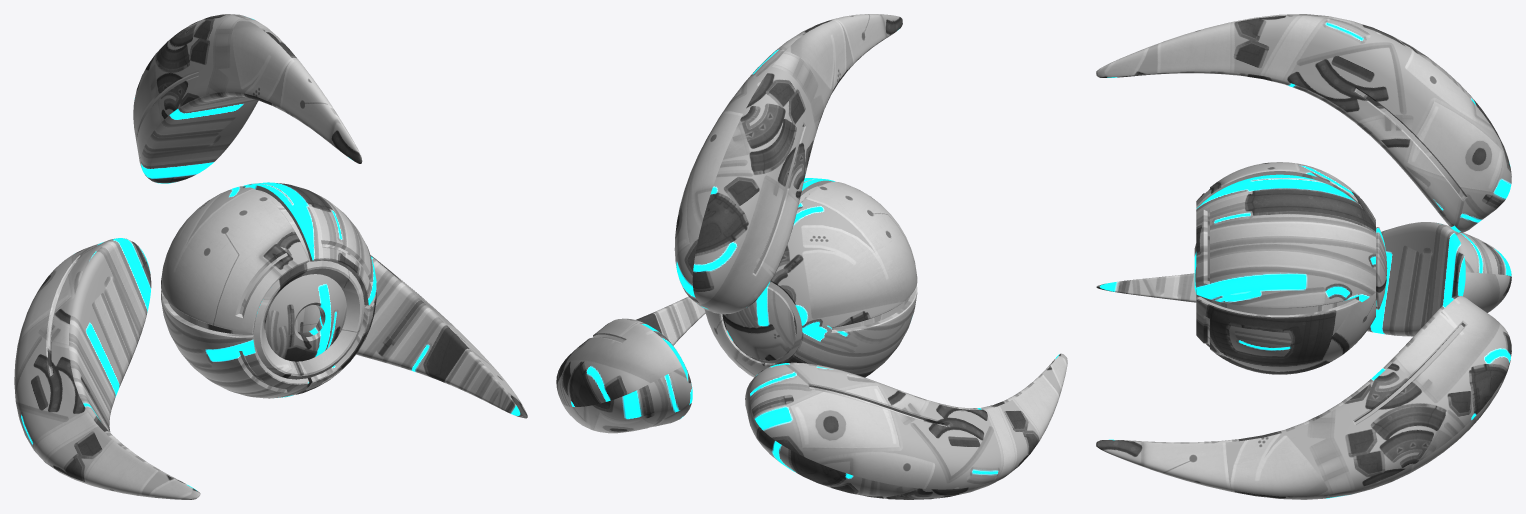
The model's file is uploads_files_4474107_Alien_troop_01(FBX).fbx.
3 views of the same model, side by side, from view 1: azimuth 30°, elevation 25°; view 2: azimuth 150°, elevation 25°; view 3: azimuth 270°, elevation 25° (orthographic).
Visible parts, largest first — view 1: Alien_troop_01_poly; view 2: Alien_troop_01_poly; view 3: Alien_troop_01_poly.
Part boxes in pixels (left/top/right/bottom): Alien_troop_01_poly: left=14, top=14, right=527, bottom=499; Alien_troop_01_poly: left=556, top=14, right=1067, bottom=499; Alien_troop_01_poly: left=1096, top=14, right=1511, bottom=499.
Bounding box in the file's own units: 12.36 × 10.85 × 10.54.
